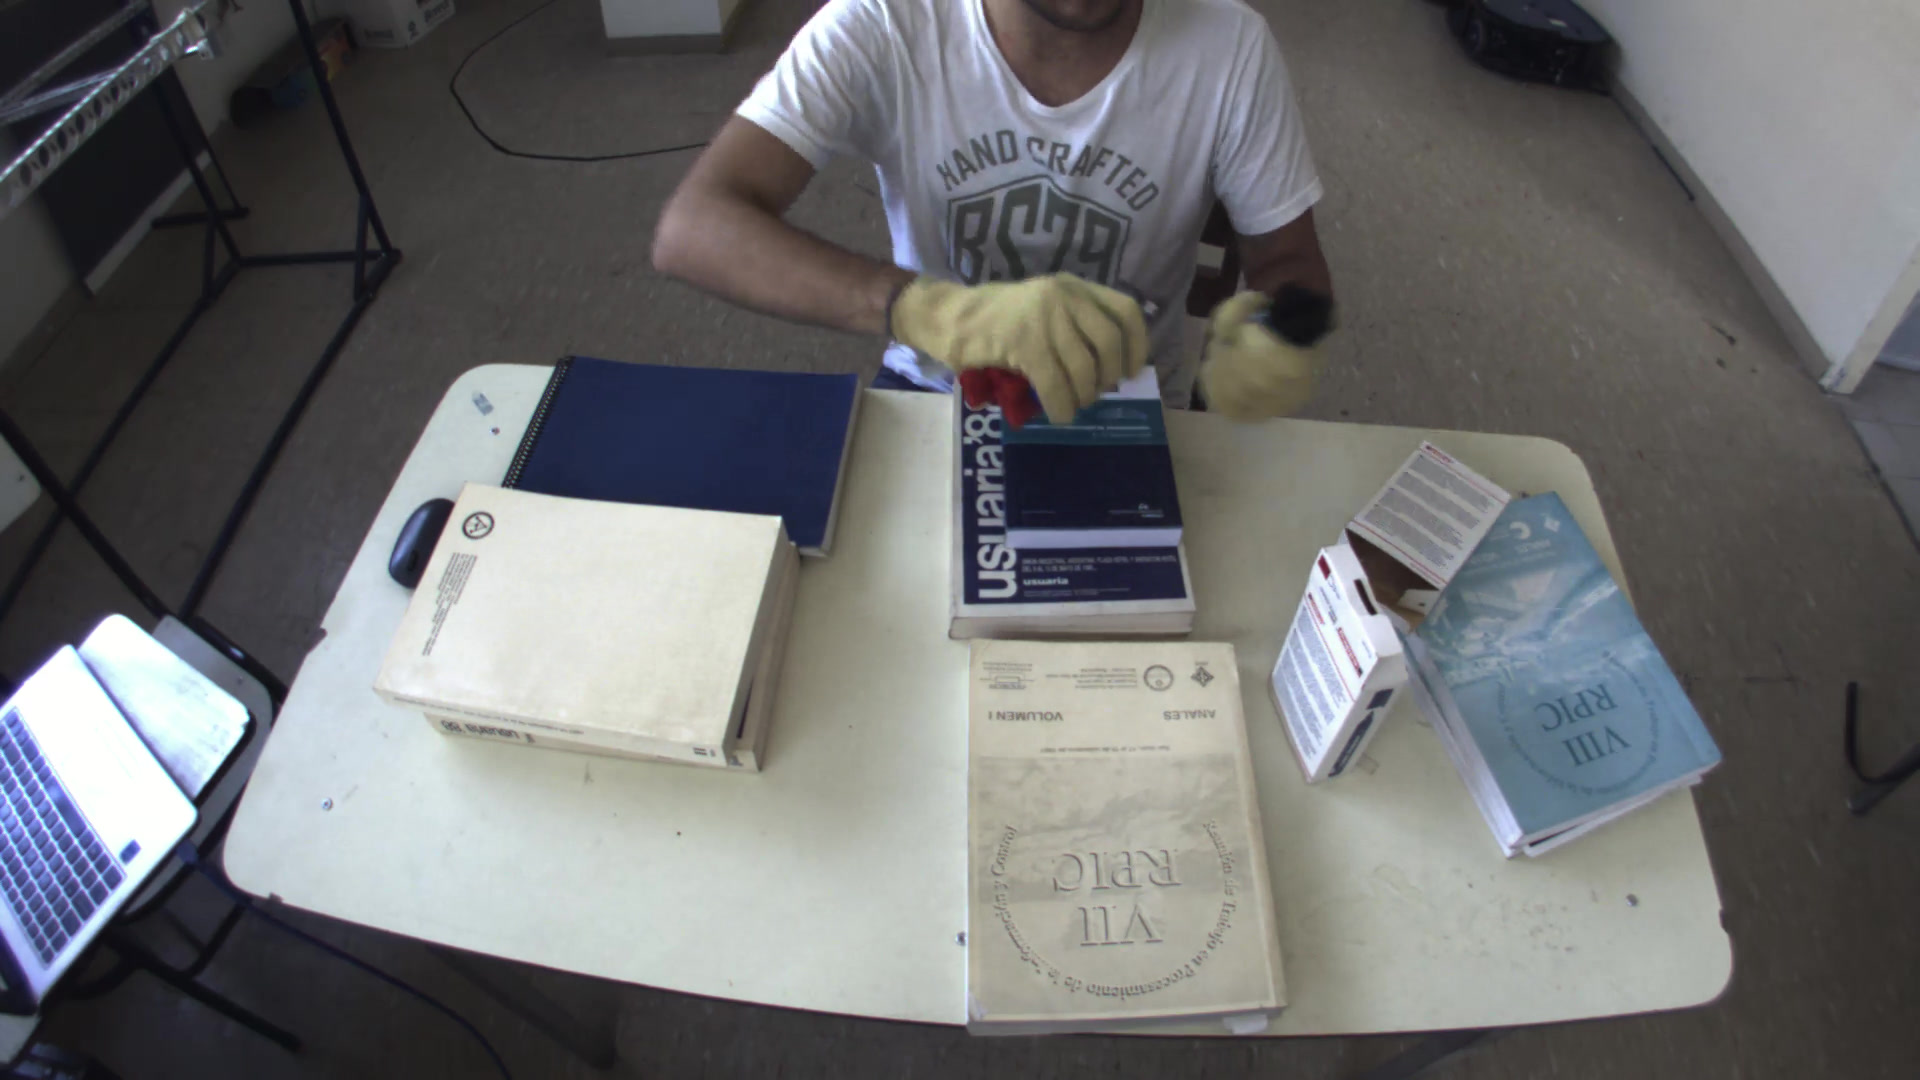hand: (877, 243, 1160, 414)
